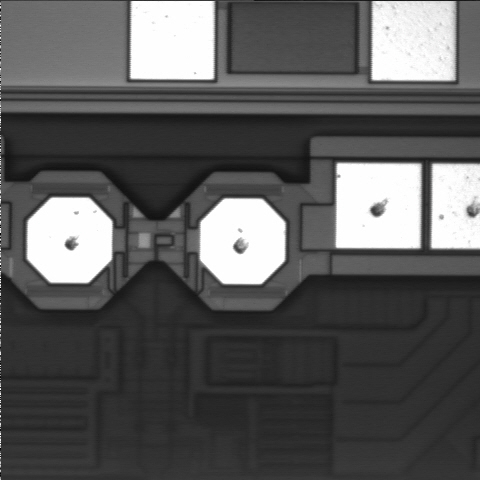pad: (336, 163, 421, 248), (27, 198, 112, 283), (200, 199, 285, 284)
